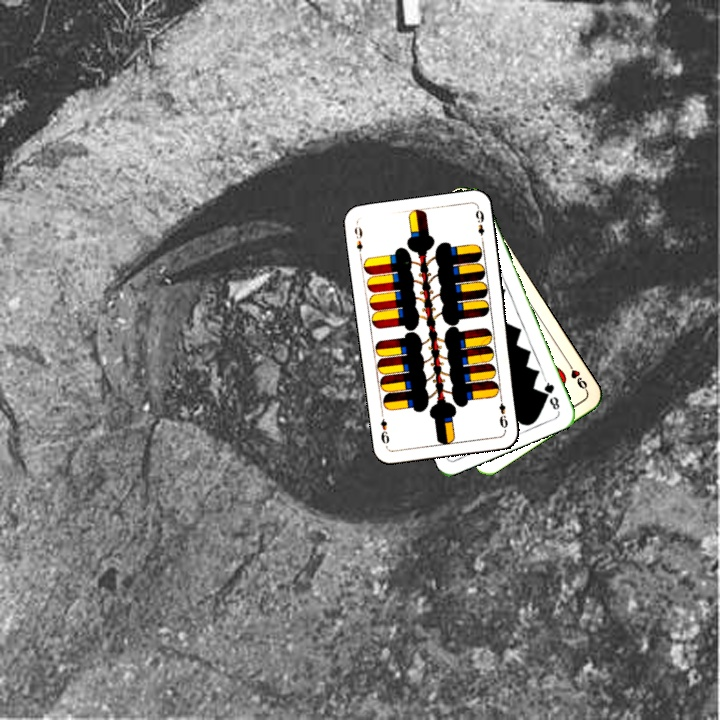E9: (495, 392, 511, 432), (350, 220, 365, 261)
G8: (540, 375, 562, 413)
H9: (563, 358, 590, 395)
